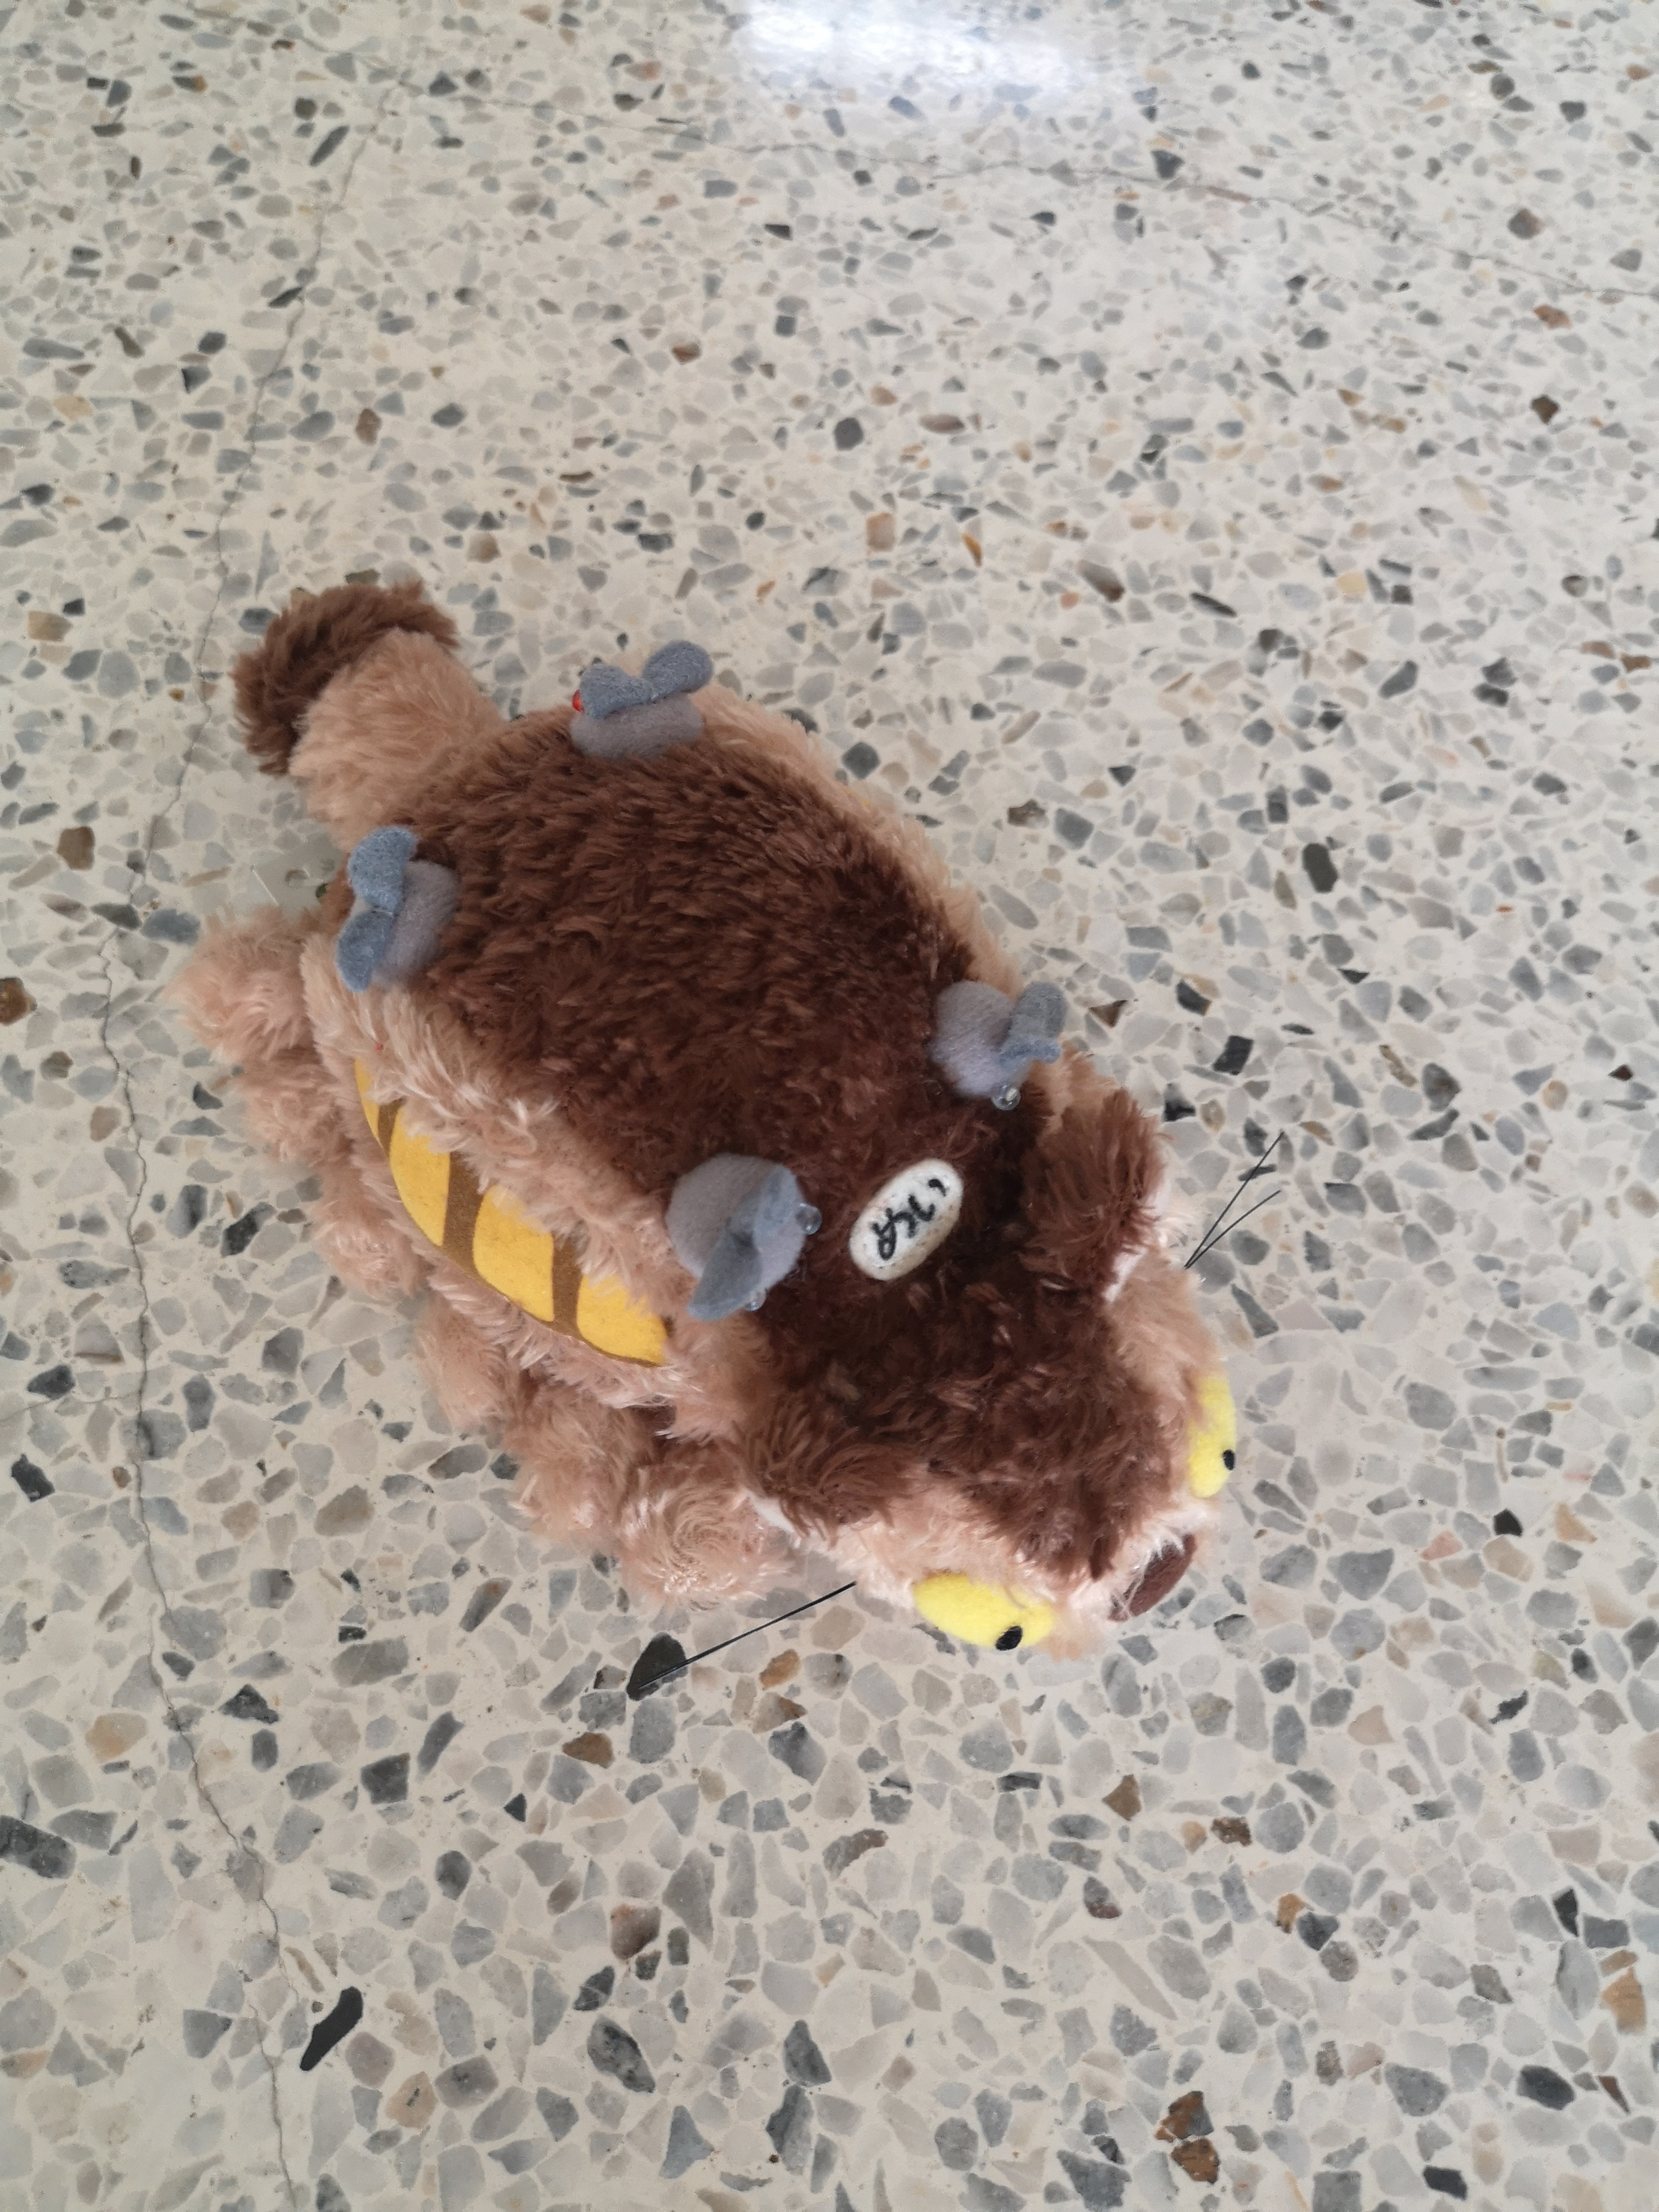nekobus: (148, 564, 1243, 1679)
